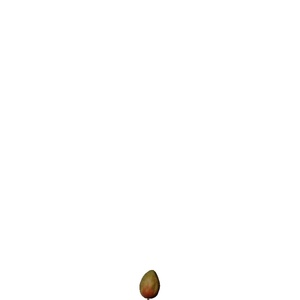mamão: (138, 266, 160, 299)
